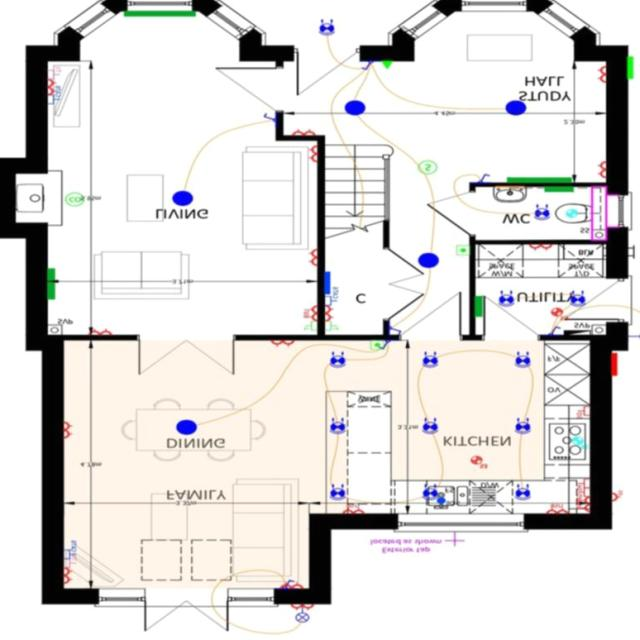BT Entry Point: (381, 62, 390, 70)
Cat 6 Data Socket: (46, 86, 60, 105), (324, 288, 337, 307), (63, 541, 75, 560)
Ceiling Mounted Continuous Extract FanWith Boost Mode Activated By Light Switch: (566, 210, 576, 219)
Ceiling Mounted Continuous Extract FanWith Local Boost Switch: (550, 308, 567, 322), (470, 456, 486, 469)
Co-Ax TV Socket: (47, 66, 60, 80), (63, 556, 75, 569)
Consumer Unit: (563, 330, 590, 336)
Double Socket: (88, 329, 110, 337), (292, 129, 314, 137), (596, 162, 606, 179), (306, 146, 316, 163), (280, 583, 304, 590), (46, 80, 56, 95), (308, 250, 317, 266), (324, 306, 333, 322), (63, 423, 72, 439), (290, 605, 314, 611), (596, 67, 605, 83), (270, 342, 293, 348), (528, 246, 550, 252), (581, 498, 590, 512), (63, 569, 71, 584)
Electric Meter Box: (610, 354, 617, 377)
External Wall Light: (296, 608, 308, 624), (627, 333, 640, 343)
Gas Meter Box: (626, 58, 633, 80)
Grid Switch: (576, 490, 589, 510)
Hob Switch: (576, 480, 589, 492)
Light Switch: (377, 342, 390, 351), (360, 62, 373, 71), (548, 327, 560, 336), (390, 326, 400, 336), (284, 580, 294, 590), (478, 175, 489, 184), (263, 114, 275, 122)
Low Energy Downlighter: (329, 351, 345, 369), (533, 204, 549, 222), (328, 485, 345, 501), (329, 418, 345, 435), (514, 418, 530, 435), (514, 352, 530, 369), (498, 291, 514, 308), (318, 19, 334, 36), (514, 485, 530, 501), (422, 418, 437, 435), (422, 352, 437, 369), (569, 291, 584, 308), (422, 485, 437, 501)
Low Energy Pendant Light: (174, 420, 197, 436), (503, 101, 526, 116), (171, 191, 192, 207), (417, 254, 438, 269), (344, 102, 365, 115)
Mains Wired Smoke Detector: (416, 162, 436, 175)
Outside Socket: (611, 490, 622, 502)
Outside Tap: (444, 534, 464, 548)
Oven Switch: (576, 406, 589, 419)
Programmable Room Thermostat: (456, 246, 468, 256), (370, 342, 383, 351)
Radiator: (122, 12, 194, 18), (505, 178, 570, 184), (46, 269, 55, 300), (474, 297, 482, 317), (544, 188, 573, 192)
Recirculating Extractor Fan: (571, 437, 588, 450)
Telephone Socket: (324, 322, 339, 332), (304, 322, 316, 332)
USB Double Socket: (302, 306, 316, 322), (547, 504, 567, 514), (341, 506, 363, 514)
Underfloor Heating Manifold: (324, 272, 330, 296)
Water Entry Position: (436, 499, 445, 505)
